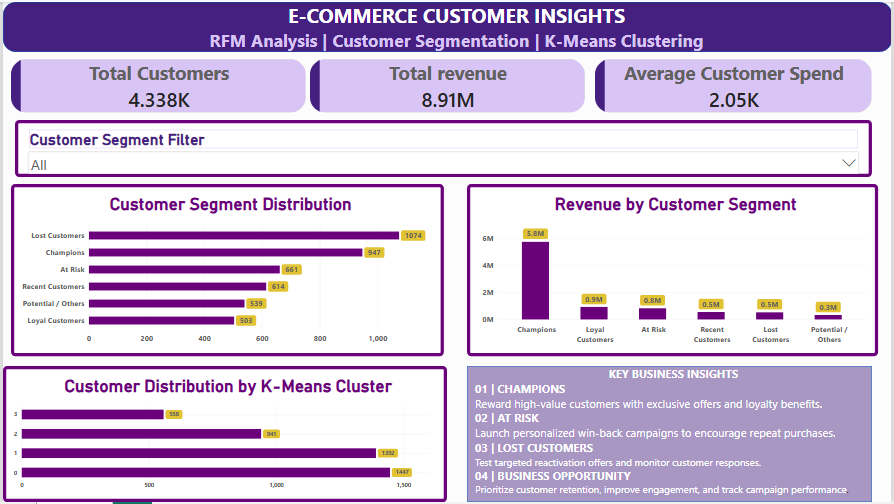

The page's visual inventory and layout, read from the dashboard file:
{"tool":"powerbi","page":{"name":"Page 1","canvas":[1920,1080],"ordinal":0},"visuals":[{"type":"shape","box":[1002.2,786.2,874.8,293.8],"z":0},{"type":"cardVisual","fields":{"Data":["CountNonNull(RFM_Customer_Scores.CustomerID)"]},"box":[17.3,123.1,637.2,116.6],"z":1000},{"type":"cardVisual","fields":{"Data":["Sum(RFM_Customer_Scores.Monetary)"]},"box":[663.1,123.1,594,116.6],"z":2000},{"type":"cardVisual","fields":{"Data":["Avg(RFM_Customer_Scores.Monetary)"]},"box":[1278.7,123.1,598.3,116.6],"z":3000},{"type":"clusteredBarChart","title":"Customer Segment Distribution","fields":{"Category":["RFM_Customer_Scores.Segment"],"Y":["CountNonNull(RFM_Customer_Scores.CustomerID)"]},"box":[17.3,393.1,935.3,371.5],"z":4000},{"type":"slicer","fields":{"Values":["RFM_Customer_Scores.Segment"]},"box":[25.9,254.9,1851.1,123.1],"z":5000},{"type":"clusteredColumnChart","title":"Revenue by Customer Segment","fields":{"Category":["RFM_Customer_Scores.Segment"],"Y":["Sum(RFM_Customer_Scores.Monetary)"]},"box":[1002.2,393.1,887.8,371.5],"z":6000},{"type":"clusteredBarChart","title":"Customer Distribution by K-Means Cluster","fields":{"Category":["RFM_Customer_Scores.Cluster"],"Y":["Count(RFM_Customer_Scores.CustomerID)"]},"box":[0,786.2,959,293.8],"z":7000},{"type":"shape","box":[0,0,1920.2,108],"z":8000},{"type":"textbox","box":[1203,813,440,267],"z":9000},{"type":"textbox","box":[38.9,0,1881.4,108],"z":10000},{"type":"textbox","box":[1019.5,786.2,857.5,293.8],"z":11000}]}

Visuals, with their boxes in screenshot pixels (x1, y1, x2, y2), scaled from the page's 1920x1080 canvas onto the 894x504 screenshot:
shape: [467,367,874,503]
cardVisual - CountNonNull(RFM_Customer_Scores.CustomerID): [8,57,305,112]
cardVisual - Sum(RFM_Customer_Scores.Monetary): [309,57,585,112]
cardVisual - Avg(RFM_Customer_Scores.Monetary): [595,57,874,112]
"Customer Segment Distribution" clusteredBarChart: [8,183,444,357]
slicer - RFM_Customer_Scores.Segment: [12,119,874,176]
"Revenue by Customer Segment" clusteredColumnChart: [467,183,880,357]
"Customer Distribution by K-Means Cluster" clusteredBarChart: [0,367,447,503]
shape: [0,0,893,50]
textbox: [560,379,765,503]
textbox: [18,0,893,50]
textbox: [475,367,874,503]
